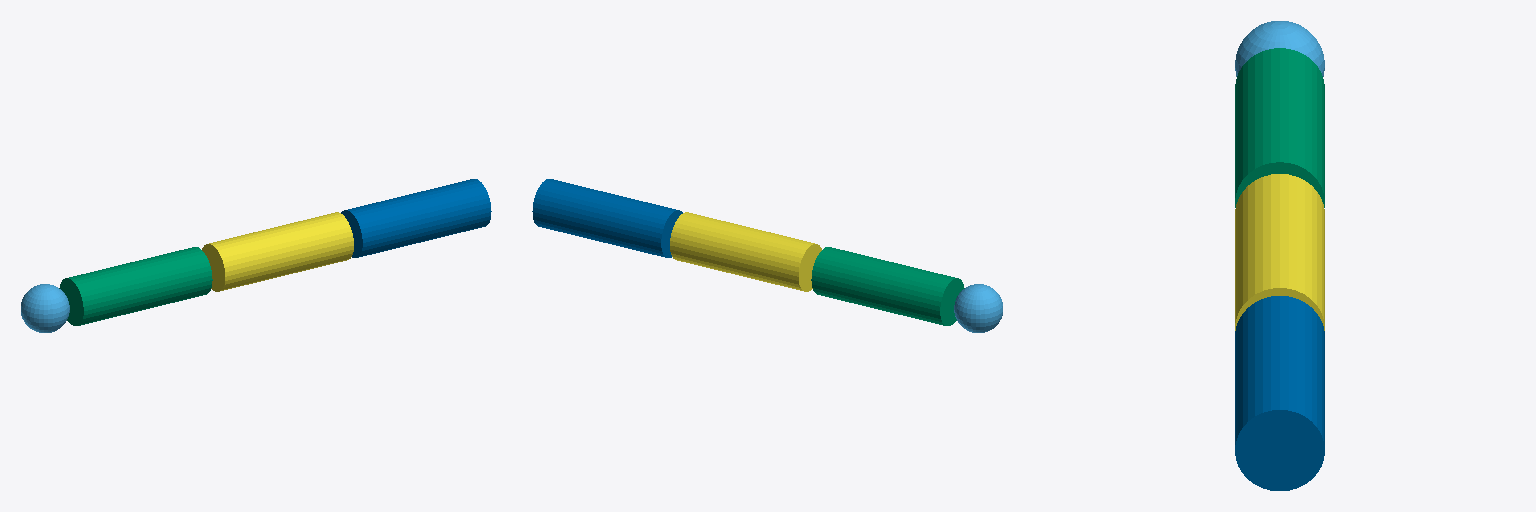
URDF robot description (snake_robot):
<?xml version="1.0" ?>
<!-- =================================================================================== -->
<!-- |    This document was autogenerated by xacro from panda_arm_hand.urdf.xacro      | -->
<!-- |    EDITING THIS FILE BY HAND IS NOT RECOMMENDED                                 | -->
<!-- =================================================================================== -->
<robot name="snake_robot" >
  
  <link name="base_footprint">
    <visual>
      <origin xyz="0 0 0" rpy="0 0 0" />
      <geometry>
        <box size="0.001 0.001 0.001" />
      </geometry>
    </visual>
  </link>

  <joint name="sr_joint0" type="fixed">
    <origin xyz="0 0 0" rpy="0 0 0" />
    <parent link="base_footprint"/>
    <child link="sr_link0" />
  </joint>

  <link name="sr_link0">
    <inertial>
      <mass value="10" />
      <origin xyz="0 0 0" />
      <inertia ixx="5.0" ixy="0.0" ixz="0.0"
               iyy="5.0" iyz="0.0"
               izz="5.0" />
    </inertial>
    <visual>
      <origin xyz="0 0 0" rpy="0 0 0" />
      <geometry>
        <sphere radius="0.05"/> <!-- does not need to match collision -->
      </geometry>
    </visual>
    <collision>
      <origin xyz="0 0 0" />
      <geometry>
        <sphere radius="0.05"/>
      </geometry>
    </collision>
  </link>


  <joint name="sr_joint1" type="revolute">
<!--    <safety_controller k_position="100.0" k_velocity="40.0" soft_lower_limit="-2.8973" soft_upper_limit="2.8973"/>-->
    <origin rpy="0 0 0" xyz="0.051 0 0"/>
    <parent link="sr_link0"/>
    <child link="sr_link1"/>
    <axis xyz="0 0 1"/>
    <limit effort="87" lower="-0.785" upper="0.785" velocity="2.1750"/>
  </joint>

  <link name="sr_link1">
    <inertial>
      <origin rpy="0 0 0" xyz="0 0 0"/>
      <mass value="3"/>
      <inertia ixx="1" ixy="0" ixz="0" iyy="1" iyz="0" izz="1"/>
    </inertial>
    <visual>
      <origin rpy="0 1.57 0" xyz="0.16 0 0"/>
      <geometry>
        <cylinder length="0.3" radius="0.05"/>
      </geometry>
        <color rgba="1. 1. 1. 1."/>
    </visual>
    <collision>
      <origin rpy="0 1.57 0" xyz="0.16 0 0"/>
      <geometry>
        <cylinder length="0.3" radius="0.05"/>
      </geometry>
    </collision>
  </link>

    <joint name="sr_joint2" type="revolute">
      <safety_controller k_position="100.0" k_velocity="40.0" soft_lower_limit="-2.8973" soft_upper_limit="2.8973"/>
      <origin rpy="0 0 0" xyz="0.32 0 0"/>
      <parent link="sr_link1"/>
      <child link="sr_link2"/>
      <axis xyz="0 1 0"/>
      <limit effort="87" lower="-0.785" upper="0.785" velocity="2.1750"/>
    </joint>

    <link name="sr_link2">
      <inertial>
        <origin rpy="0 0 0" xyz="0 0 0"/>
        <mass value="3"/>
        <inertia ixx="1" ixy="0" ixz="0" iyy="1" iyz="0" izz="1"/>
      </inertial>
      <visual>
        <origin rpy="0 1.57 0" xyz="0.17 0 0"/>
        <geometry>
          <cylinder length="0.3" radius="0.05"/>
        </geometry>
        <color rgba="1. 1. 1. 1."/>
      </visual>
      <collision>
        <origin rpy="0 1.57 0" xyz="0.17 0 0"/>
        <geometry>
          <cylinder length="0.3" radius="0.05"/>
        </geometry>
      </collision>
    </link>

    <joint name="sr_joint3" type="revolute">
      <safety_controller k_position="100.0" k_velocity="40.0" soft_lower_limit="-2.8973" soft_upper_limit="2.8973"/>
      <origin rpy="0 0 0" xyz="0.32 0 0"/>
      <parent link="sr_link2"/>
      <child link="sr_link3"/>
      <axis xyz="0 0 1"/>
      <limit effort="87" lower="-0.785" upper="0.785" velocity="2.1750"/>
    </joint>

    <link name="sr_link3">
      <inertial>
        <origin rpy="0 0 0" xyz="0 0 0"/>
        <mass value="3"/>
        <inertia ixx="1" ixy="0" ixz="0" iyy="1" iyz="0" izz="1"/>
      </inertial>
      <visual>
        <origin rpy="0 1.57 0" xyz="0.17 0 0"/>
        <geometry>
          <cylinder length="0.3" radius="0.05"/>
        </geometry>
        <color rgba="1. 1. 1. 1."/>
      </visual>
      <collision>
        <origin rpy="0 1.57 0" xyz="0.17 0 0"/>
        <geometry>
          <cylinder length="0.3" radius="0.05"/>
        </geometry>
      </collision>
    </link>

  <gazebo>
    <plugin filename="gz-sim-joint-state-publisher-system"
      name="gz::sim::systems::JointStatePublisher">
      <topic>joint_states</topic>
    </plugin>

    <plugin filename="gz-sim-odometry-publisher-system"
      name="gz::sim::systems::OdometryPublisher">
      <odom_frame>odom</odom_frame>
      <robot_base_frame>base_footprint</robot_base_frame>
      <!-- <dimensions>3</dimensions> -->
    </plugin>
  </gazebo>


</robot>

--- Facts derived from the render (not from the file) ---
3 views of the same robot in one strip: view 1: azimuth 30°, elevation 25°; view 2: azimuth 150°, elevation 25°; view 3: azimuth 270°, elevation 25° (orthographic).
Robot: snake_robot — 5 links, 4 joints (3 revolute, 1 fixed); root link base_footprint; default pose: all joints at 0.
Visible links, largest first — view 1: sr_link1, sr_link2, sr_link3, sr_link0; view 2: sr_link1, sr_link2, sr_link3, sr_link0; view 3: sr_link3, sr_link1, sr_link2, sr_link0.
Boxes of the visible links, x1,y1,x2,y2 form: sr_link1: [59, 247, 212, 325]; sr_link2: [202, 212, 353, 291]; sr_link3: [341, 179, 491, 257]; sr_link0: [21, 284, 69, 332]; sr_link1: [811, 247, 964, 325]; sr_link2: [670, 212, 821, 291]; sr_link3: [532, 179, 682, 257]; sr_link0: [954, 284, 1002, 332]; sr_link3: [1235, 296, 1324, 490]; sr_link1: [1235, 48, 1324, 207]; sr_link2: [1235, 174, 1324, 330]; sr_link0: [1235, 21, 1324, 76].
Size in the robot's own frame: 1.06 by 0.1 by 0.1002 metres.
Geometry: primitives only (box / cylinder / sphere), no mesh files.
